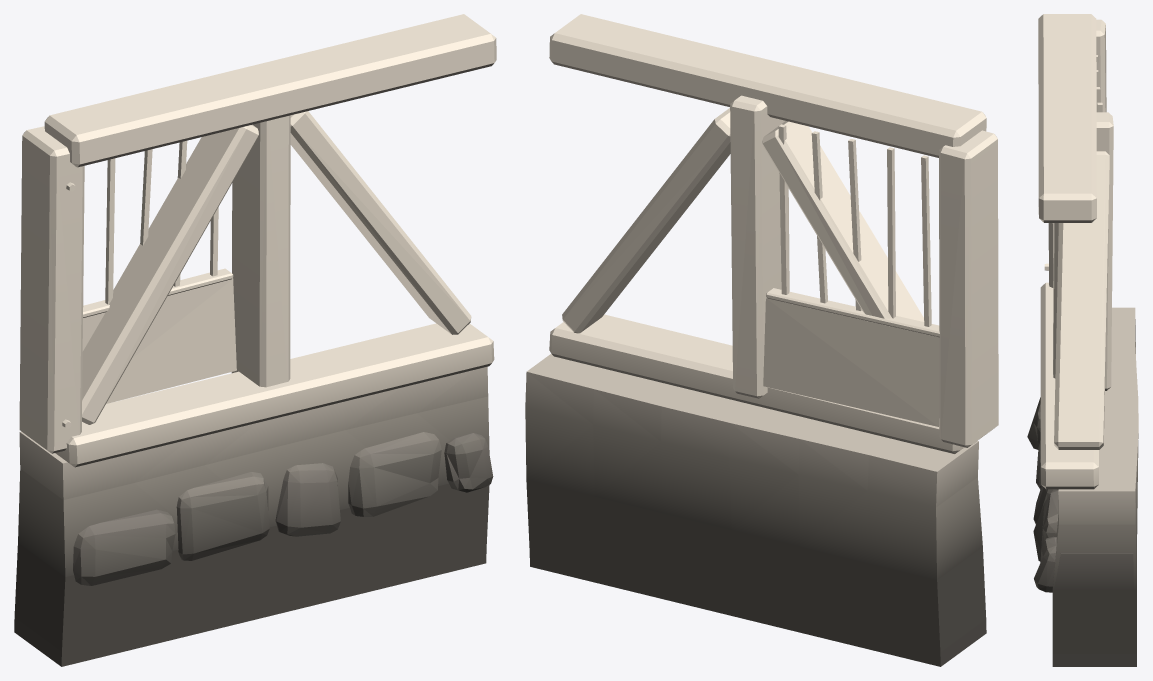
File: SM_VK_Wall_Plaster_Frame.fbx
3 renders of one model, left to right at view 1: azimuth 30°, elevation 25°; view 2: azimuth 150°, elevation 25°; view 3: azimuth 270°, elevation 25°, orthographic. The views are drawn at different scales.
Visible parts, largest first — view 1: SM_VK_Wall_Plaster_Frame.001; view 2: SM_VK_Wall_Plaster_Frame.001; view 3: SM_VK_Wall_Plaster_Frame.001.
Boxes of the visible parts, <box> form: SM_VK_Wall_Plaster_Frame.001: <box>14,14,496,666</box>; SM_VK_Wall_Plaster_Frame.001: <box>525,14,998,666</box>; SM_VK_Wall_Plaster_Frame.001: <box>1027,14,1138,666</box>.
Size of the model in its own units: 3.13 by 3.6 by 0.7674.
